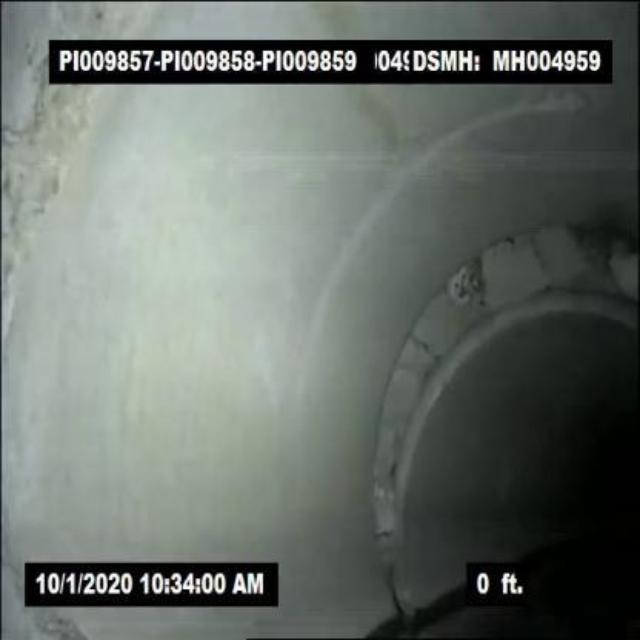Joint offset: (403, 226, 638, 348), (365, 351, 455, 540)
